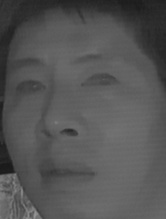eye: (81, 70, 123, 93), (14, 76, 47, 98)
mouth: (33, 149, 98, 194)
